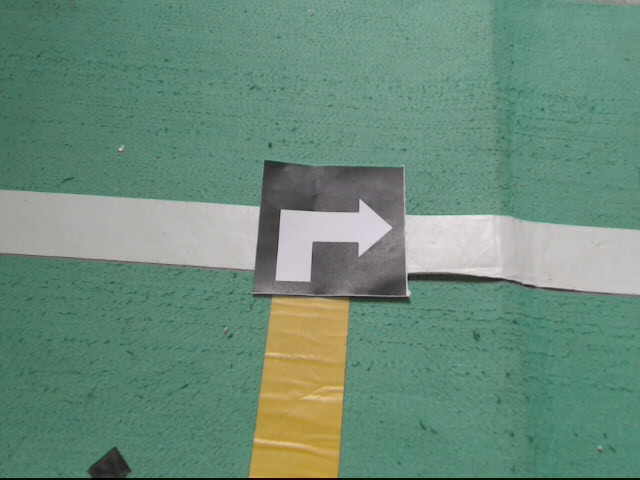right: (252, 156, 411, 296)
